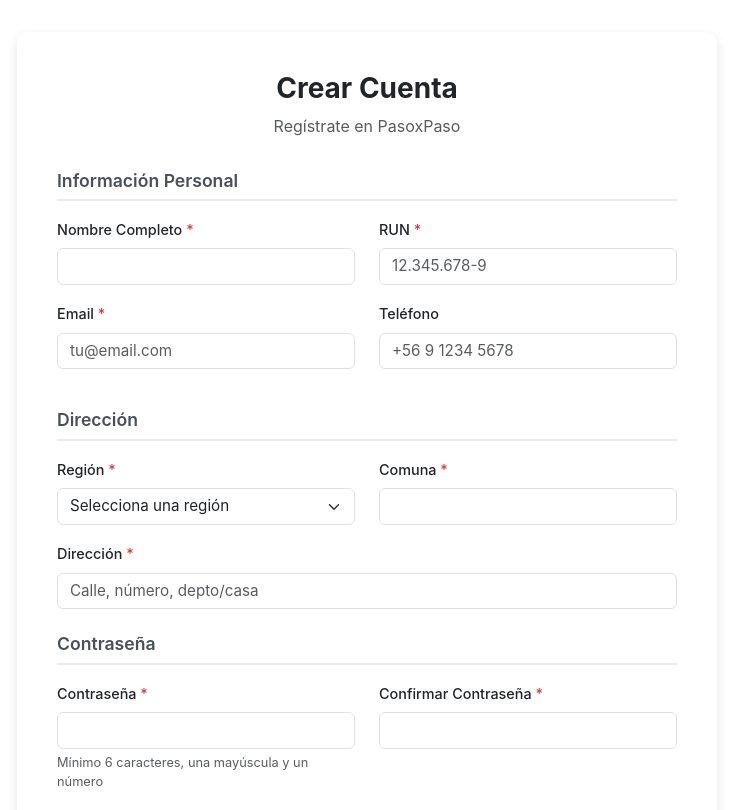
Test case: RegisterForm Component › should show error when passwords do not match
In the password field labelled "Contraseña *": (206, 730) [57,712,355,749], type "Password123"
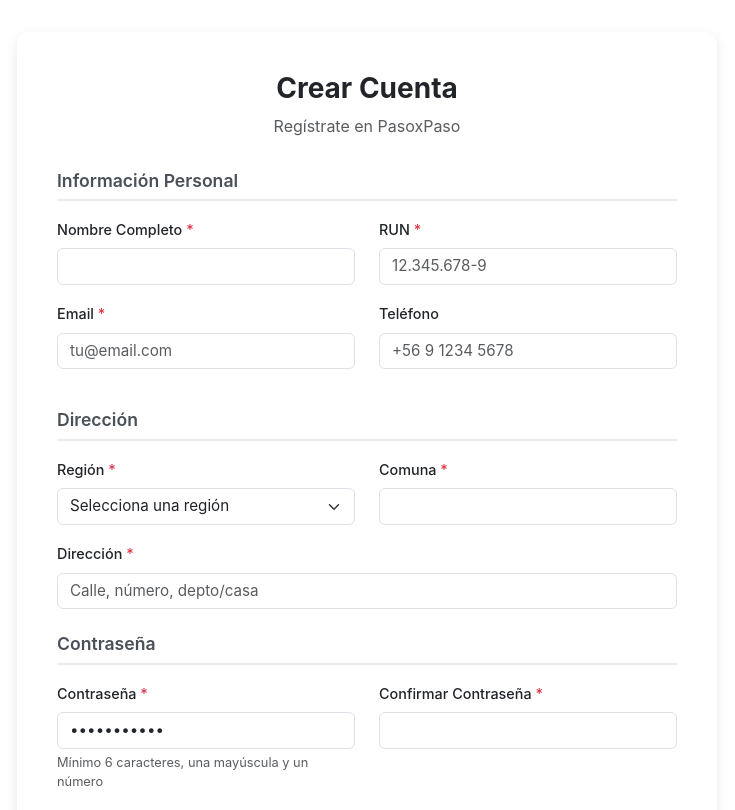
In the password field labelled "Confirmar Contraseña *": (528, 730) [379,712,677,749], type "Password456"
(page scrolled)
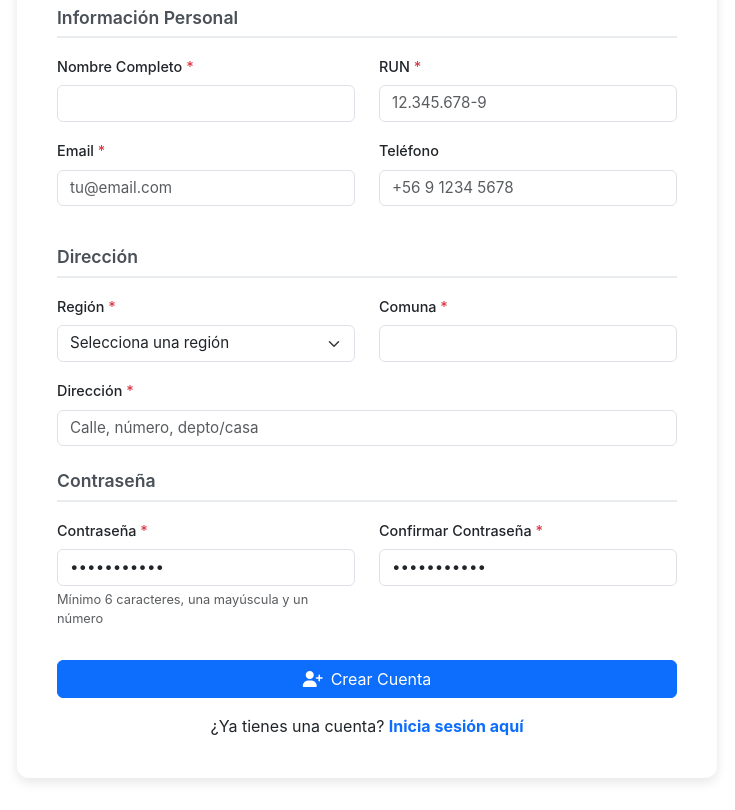
Click the button "Crear Cuenta": (367, 679) [57,660,677,698]
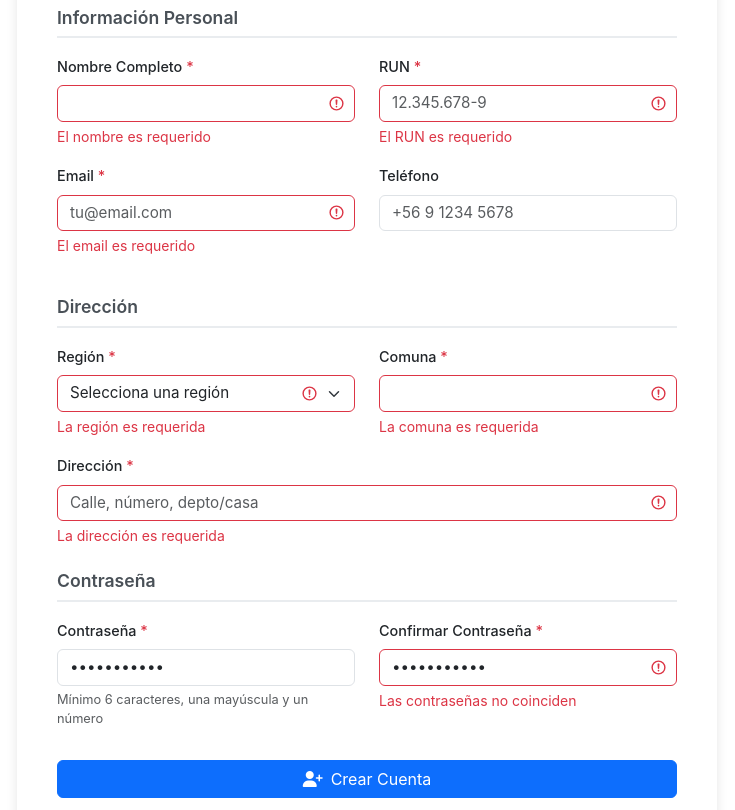
Expected: the text "Las contraseñas no coinciden" is shown, [379,692,576,709]
